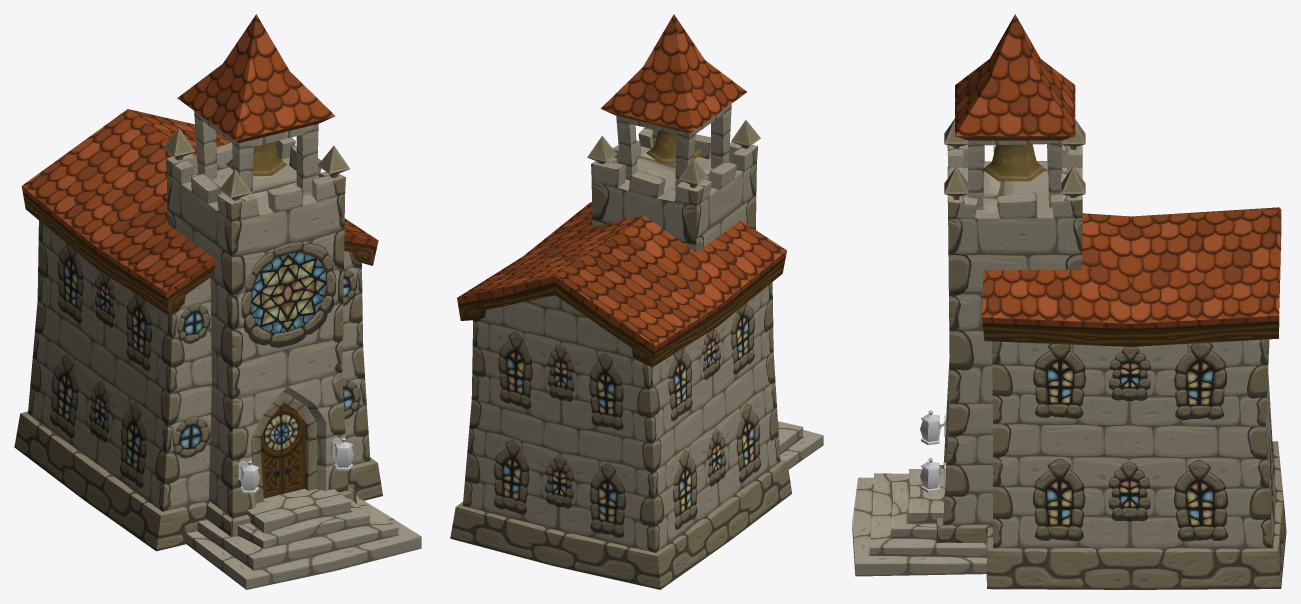
The model's file is temple.FBX.
The picture shows the model from 3 angles, left to right: view 1: azimuth 30°, elevation 25°; view 2: azimuth 150°, elevation 25°; view 3: azimuth 270°, elevation 25°; orthographic projection. The views are drawn at different scales.
Visible parts, largest first — view 1: temple, lamp02, lamp01; view 2: temple; view 3: temple, lamp02, lamp01.
Boxes of the visible parts, box(x1,y1,x2,y2) form: temple: box(14, 14, 421, 589); lamp02: box(331, 437, 353, 470); lamp01: box(238, 460, 260, 493); temple: box(450, 14, 823, 589); temple: box(852, 14, 1286, 589); lamp02: box(920, 457, 945, 492); lamp01: box(920, 410, 945, 445).
Bounding box in the file's own units: 57.15 × 118 × 89.81.
